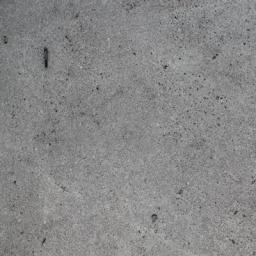FOD: (43, 46, 55, 71)
